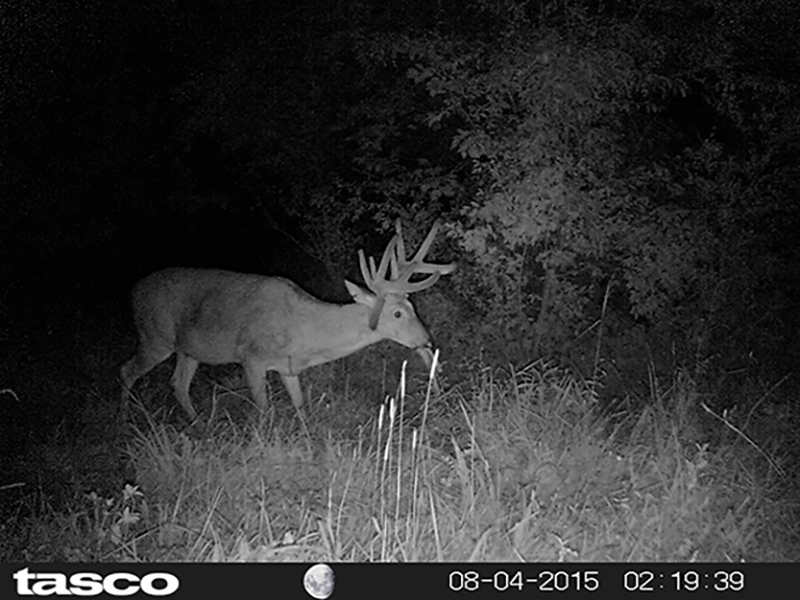cervo: (108, 204, 461, 435)
